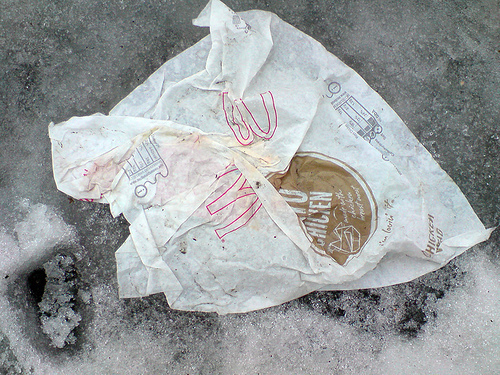litter: (50, 3, 492, 314)
